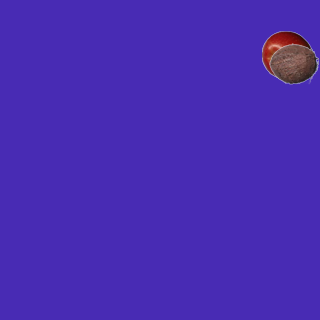Apple Braeburn: (261, 30, 311, 80)
Cocos: (268, 38, 318, 88)
